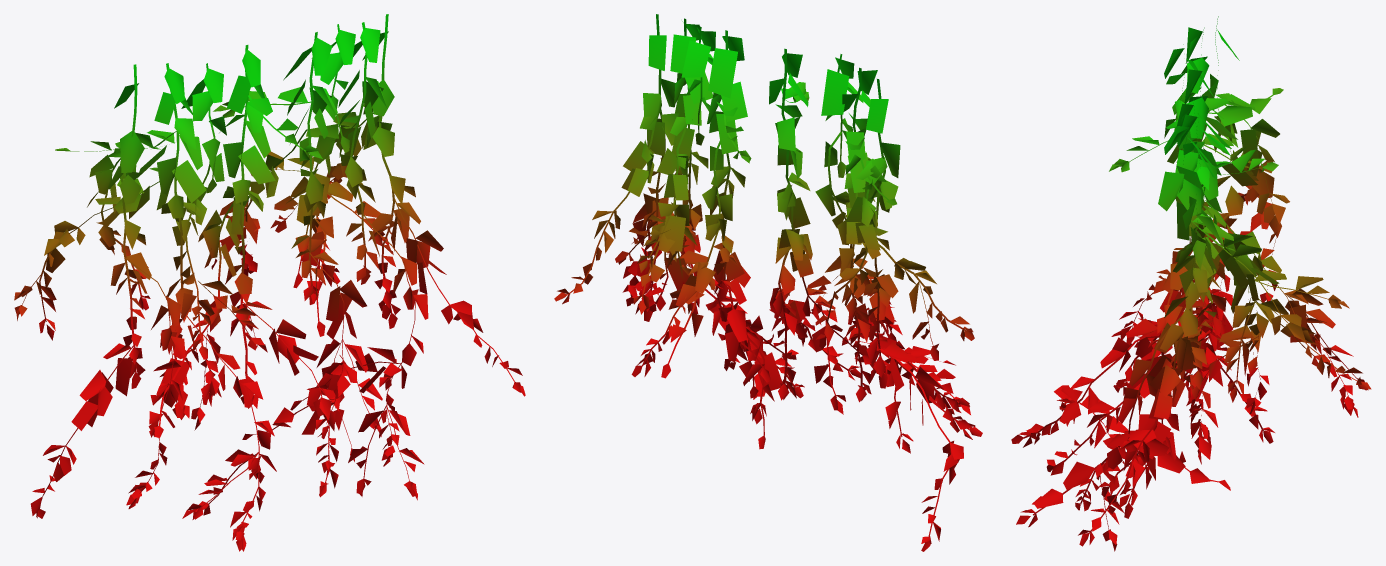
File: Var11_LOD4.fbx
3 renders of one model, left to right at view 1: azimuth 30°, elevation 25°; view 2: azimuth 150°, elevation 25°; view 3: azimuth 270°, elevation 25°, orthographic. The views are drawn at different scales.
Visible parts, largest first — view 1: _vjqu_Var11_LOD4; view 2: _vjqu_Var11_LOD4; view 3: _vjqu_Var11_LOD4.
Boxes of the visible parts, left/top/right/bottom form: _vjqu_Var11_LOD4: left=14, top=14, right=525, bottom=551; _vjqu_Var11_LOD4: left=554, top=14, right=982, bottom=551; _vjqu_Var11_LOD4: left=1011, top=16, right=1371, bottom=551.
Size of the model in its own units: 109 by 109 by 76.52.
